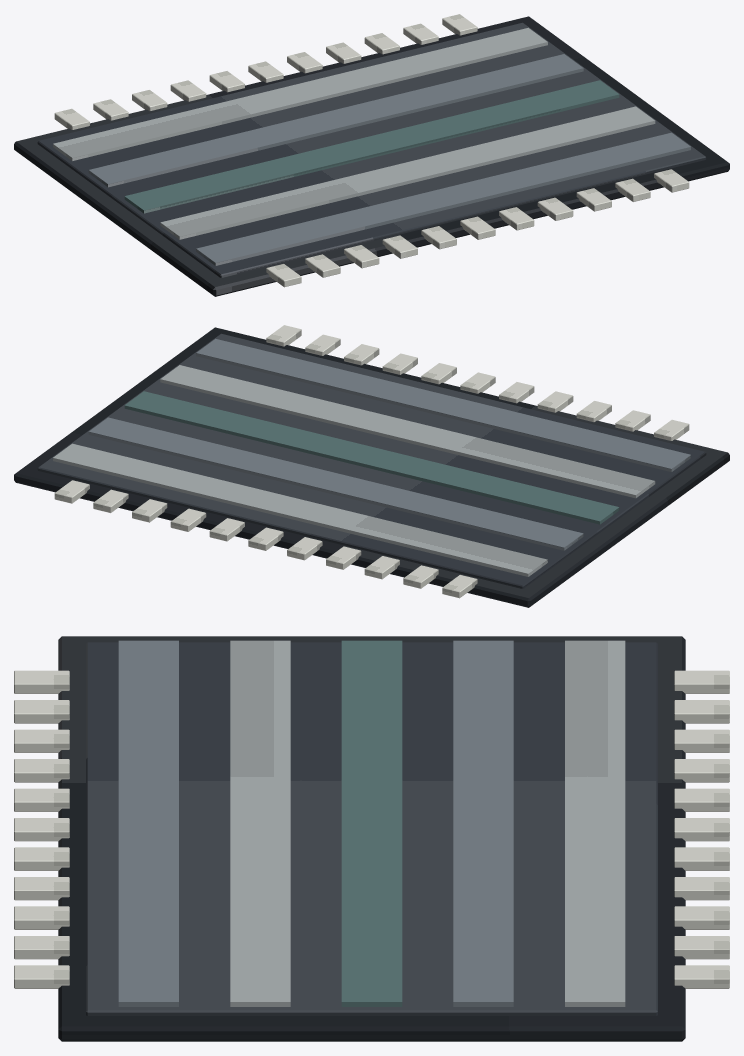
Rendered from apartment_carpet_charcoal.glb.
The picture shows the model from 3 angles, top to bottom: view 1: azimuth 30°, elevation 25°; view 2: azimuth 150°, elevation 25°; view 3: azimuth 270°, elevation 25°; orthographic projection. The views are drawn at different scales.
Parts seen in each view (by area): view 1: WovenField, TextileBase, WovenBand_1, WovenBand_2, WovenBand_3, WovenBand_4, WovenBand_0, FringeF_2, FringeF_-1, FringeF_0, FringeF_3, FringeF_-3 (+17 smaller); view 2: WovenField, TextileBase, WovenBand_3, WovenBand_2, WovenBand_1, WovenBand_0, WovenBand_4, FringeB_2, FringeB_-1, FringeB_0, FringeB_3, FringeB_-3 (+17 smaller); view 3: WovenField, TextileBase, WovenBand_2, WovenBand_1, WovenBand_3, WovenBand_0, WovenBand_4, FringeB_3, FringeB_5, FringeB_-3, FringeB_-4, FringeB_-5 (+17 smaller).
Boxes of the visible parts, x1,y1,x2,y2 form: WovenField: (37,22,706,277); TextileBase: (14,16,729,296); WovenBand_1: (160,106,655,239); WovenBand_2: (124,80,619,213); WovenBand_3: (88,54,583,187); WovenBand_4: (53,27,547,160); WovenBand_0: (196,132,690,265); FringeF_2: (537,197,573,220); FringeF_-1: (421,226,456,249); FringeF_0: (460,216,495,239); FringeF_3: (576,188,611,211); FringeF_-3: (344,245,379,268); WovenField: (37,333,706,588); TextileBase: (14,327,729,607); WovenBand_3: (88,417,583,550); WovenBand_2: (124,391,619,524); WovenBand_1: (160,365,655,498); WovenBand_0: (196,338,690,471); WovenBand_4: (53,443,547,576); FringeB_2: (170,508,206,531); FringeB_-1: (287,537,322,560); FringeB_0: (248,527,283,550); FringeB_3: (132,499,167,522); FringeB_-3: (364,556,399,579); WovenField: (86,642,657,1015); TextileBase: (58,636,685,1041); WovenBand_2: (341,640,402,1006); WovenBand_1: (230,640,290,1006); WovenBand_3: (453,640,513,1006); WovenBand_0: (118,640,178,1006); WovenBand_4: (565,640,625,1006); FringeB_3: (674,906,729,929); FringeB_5: (674,965,729,988); FringeB_-3: (674,729,729,752); FringeB_-4: (674,700,729,723); FringeB_-5: (674,670,729,693).
Bounding box in the file's own units: 2 × 0.06 × 1.54.
Materials: 1 (1 with a texture image).
